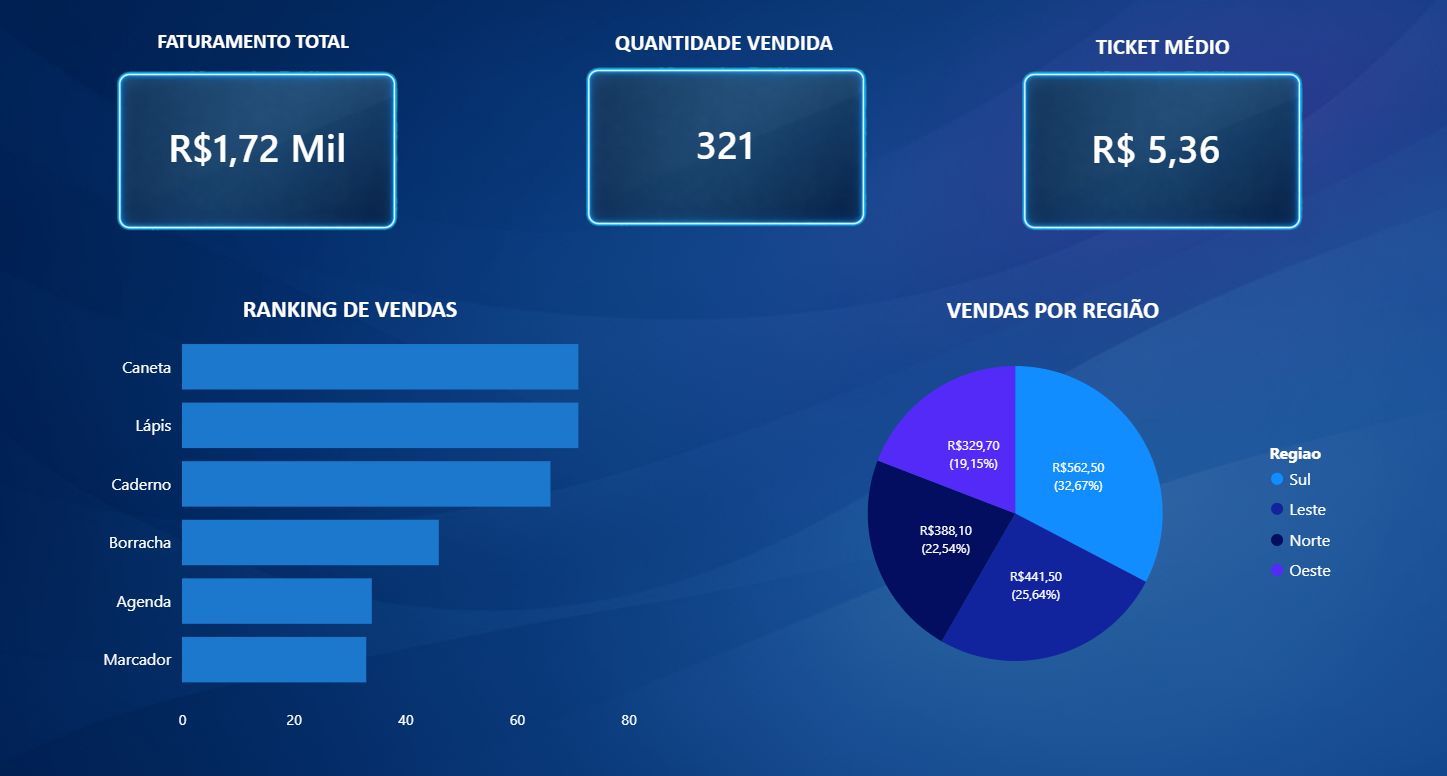

The page's visual inventory and layout, read from the dashboard file:
{"tool":"powerbi","page":{"name":"Página 1","canvas":[1280,720],"ordinal":0},"visuals":[{"type":"image","box":[486.2,58.5,243.8,133.1],"z":0},{"type":"image","box":[849.2,61.5,243.8,133.1],"z":1000},{"type":"image","box":[94.6,61.5,243.8,133.1],"z":2000},{"type":"cardVisual","fields":{"Data":["Sum(Dados_Transformados.VendaTotal)"]},"box":[110.8,67.5,212.5,111.7],"z":3000},{"type":"textbox","title":"FATURAMENTO TOTAL","box":[103.1,26.2,220,29.2],"z":4000},{"type":"textbox","title":"QUANTIDADE VENDIDA","box":[495.8,25.8,220,29.2],"z":5000},{"type":"cardVisual","fields":{"Data":["Sum(Dados_Transformados. Quantidade )"]},"box":[553.3,85.8,113.3,69.2],"z":6000},{"type":"cardVisual","fields":{"Data":["Dados_Transformados.Ticket Medio"]},"box":[854.2,71.7,223.3,105],"z":7000},{"type":"textbox","title":"TICKET MÉDIO","box":[861.7,29.2,220,29.2],"z":8000},{"type":"barChart","fields":{"Category":["Dados_Transformados. Produto  "],"Y":["Sum(Dados_Transformados.Quantidade Vendas)"]},"box":[74.2,256.7,464.2,364.2],"z":9000},{"type":"textbox","title":"RANKING DE VENDAS","box":[184.2,247.5,220,29.2],"z":10000},{"type":"pieChart","fields":{"Y":["Sum(Dados_Transformados.VendaTotal)"],"Category":["Dados_Transformados.Regiao"]},"box":[631.7,248.2,496.7,364.2],"z":11000},{"type":"textbox","title":"VENDAS POR REGIÃO","box":[770,248.2,220,29.2],"z":12000}]}

Visuals, with their boxes on the page's 1280x720 design canvas (x1, y1, x2, y2). These are canvas units, not pixel positions in the 1447x776 screenshot, which may show the page scaled, cropped or inside an application window:
image: [486, 58, 730, 192]
image: [849, 62, 1093, 195]
image: [95, 62, 338, 195]
cardVisual - Sum(Dados_Transformados.VendaTotal): [111, 68, 323, 179]
"FATURAMENTO TOTAL" textbox: [103, 26, 323, 55]
"QUANTIDADE VENDIDA" textbox: [496, 26, 716, 55]
cardVisual - Sum(Dados_Transformados. Quantidade ): [553, 86, 667, 155]
cardVisual - Dados_Transformados.Ticket Medio: [854, 72, 1078, 177]
"TICKET MÉDIO" textbox: [862, 29, 1082, 58]
barChart - Dados_Transformados. Produto   x Sum(Dados_Transformados.Quantidade Vendas): [74, 257, 538, 621]
"RANKING DE VENDAS" textbox: [184, 248, 404, 277]
pieChart - Sum(Dados_Transformados.VendaTotal) x Dados_Transformados.Regiao: [632, 248, 1128, 612]
"VENDAS POR REGIÃO" textbox: [770, 248, 990, 277]
